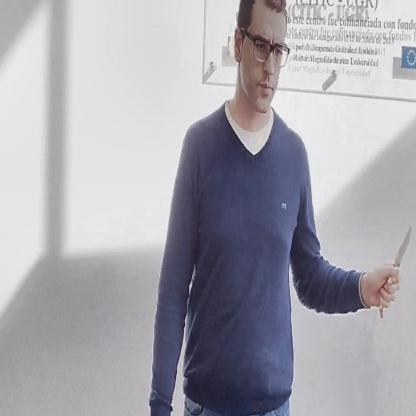knife: (376, 218, 414, 320)
